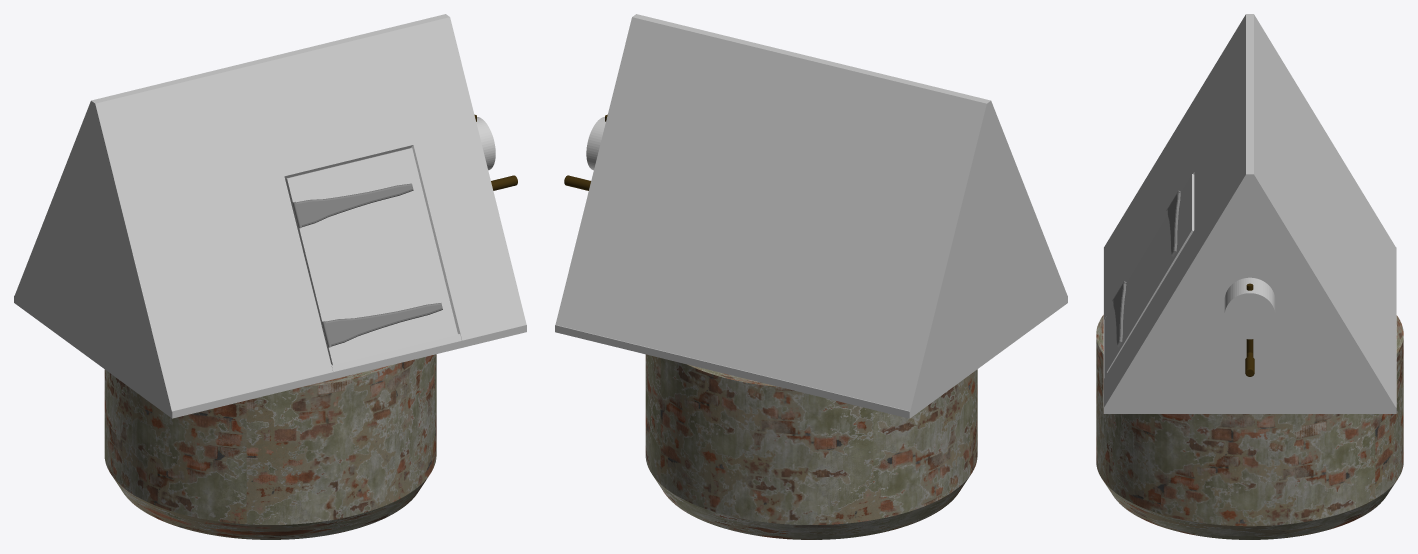
File: kolodec_LOD.fbx
3 views of the same model, side by side, from view 1: azimuth 30°, elevation 25°; view 2: azimuth 150°, elevation 25°; view 3: azimuth 270°, elevation 25° (orthographic). The views are drawn at different scales.
Visible parts, largest first — view 1: Cube_LOD0; view 2: Cube_LOD0; view 3: Cube_LOD0.
Boxes of the visible parts, left/top/right/bottom form: Cube_LOD0: left=14, top=14, right=526, bottom=539; Cube_LOD0: left=555, top=14, right=1067, bottom=539; Cube_LOD0: left=1096, top=14, right=1403, bottom=539.
Size of what is drawn, in the model's own units: 735 by 692 by 500.
